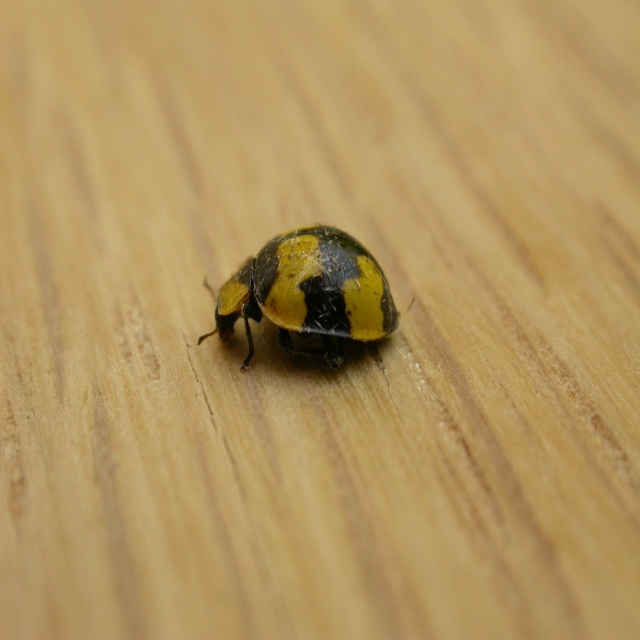Ladybug: (196, 219, 424, 394)
